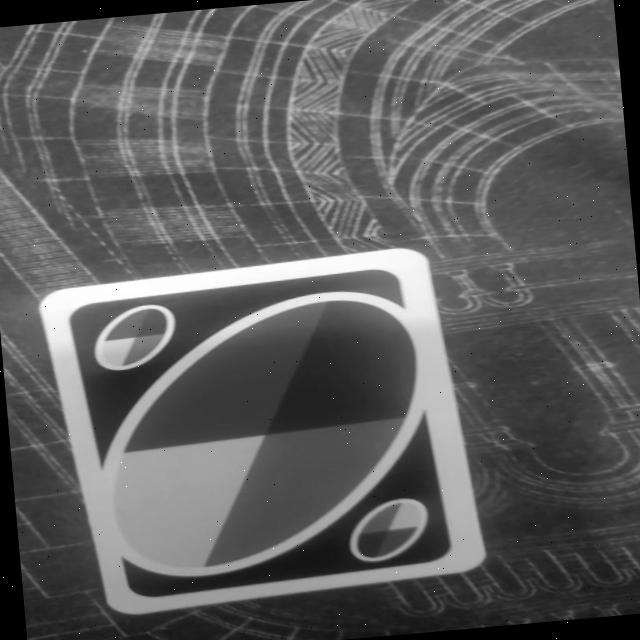wild_card: (35, 242, 489, 620)
